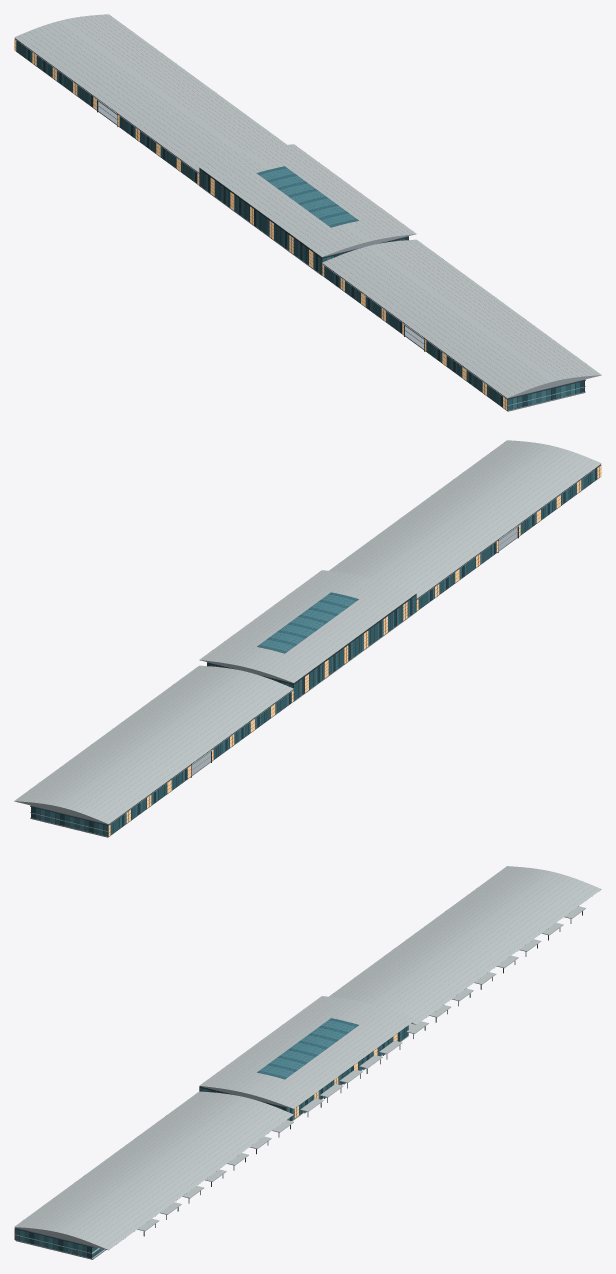
Rendered from CMN_terminal_main.glb.
The picture shows the model from 3 angles, top to bottom: view 1: azimuth 30°, elevation 25°; view 2: azimuth 150°, elevation 25°; view 3: azimuth 330°, elevation 25°; orthographic projection.
Parts seen in each view (by area): view 1: CMN_terminal_main; view 2: CMN_terminal_main; view 3: CMN_terminal_main.
Boxes of the visible parts, <box> form: CMN_terminal_main: <box>14,14,601,411</box>; CMN_terminal_main: <box>14,440,601,837</box>; CMN_terminal_main: <box>14,866,601,1259</box>.
Bounding box in the file's own units: 100 × 24 × 900.
Materials: 9 (9 with a texture image).
